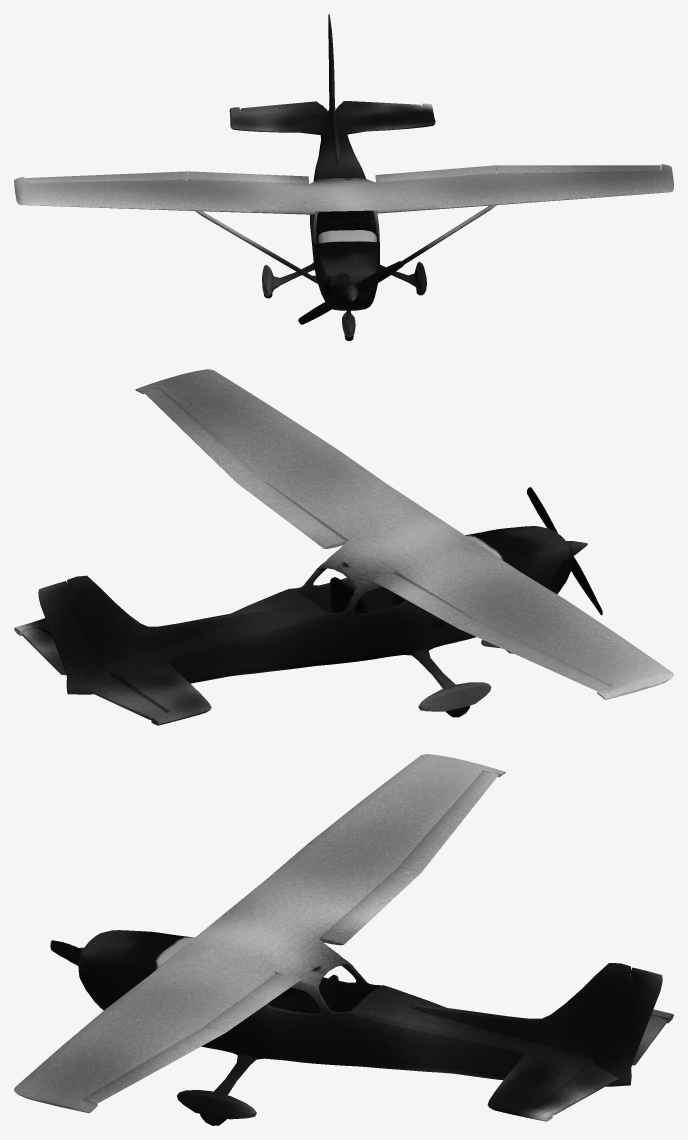
Rendered from plane_animated.glb.
3 renders of one model, top to bottom at view 1: azimuth 30°, elevation 25°; view 2: azimuth 150°, elevation 25°; view 3: azimuth 270°, elevation 25°, orthographic. The views are drawn at different scales.
Parts seen in each view (by area): view 1: node_id33_5, node_id30_3, Propeller; view 2: node_id33_5, node_id30_3, Propeller; view 3: node_id33_5, node_id30_3.
Part boxes in pixels (x1,y1,x2,y2): node_id33_5: (14,23,673,310); node_id30_3: (25,14,660,340); Propeller: (298,261,403,324); node_id33_5: (14,369,673,725); node_id30_3: (21,388,610,719); Propeller: (527,487,602,615); node_id33_5: (14,754,673,1121); node_id30_3: (66,771,667,1125).
Bounding box in the file's own units: 0.4746 × 0.1264 × 0.3722.
2 materials, 2 textured.
